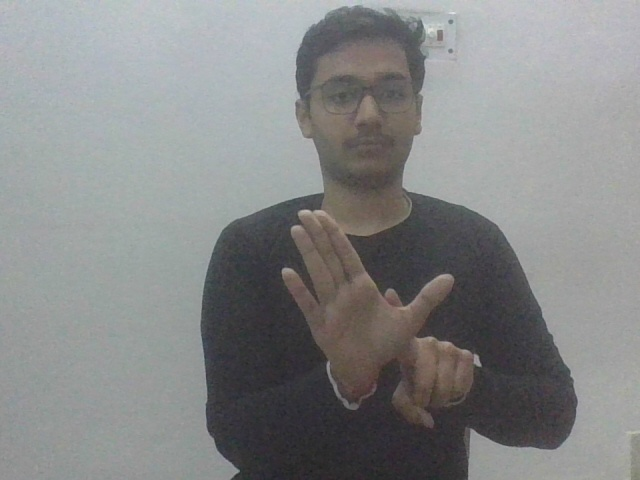Y: (277, 208, 476, 432)
